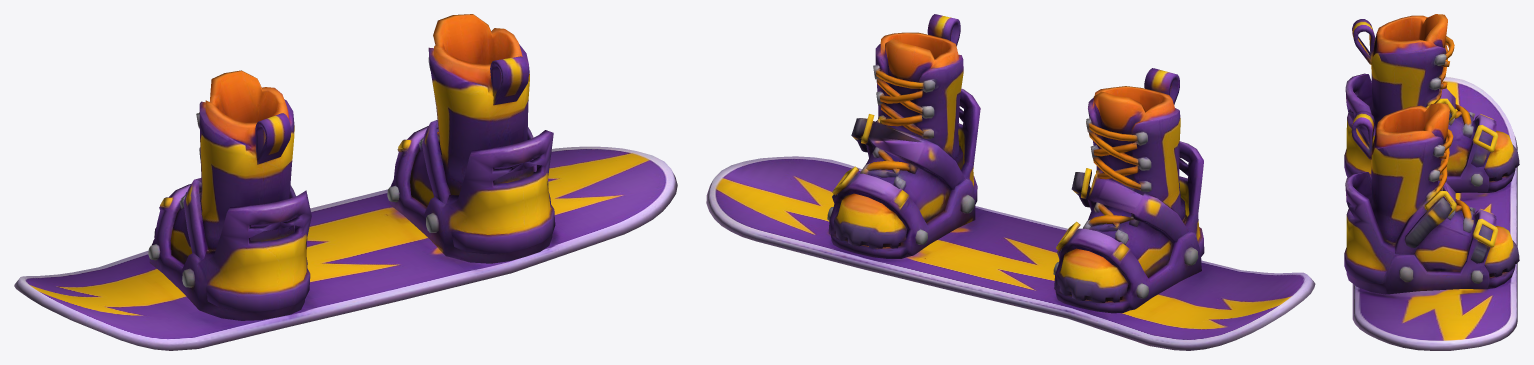
File: snowboard-boots.glb
3 views of the same model, side by side, from view 1: azimuth 30°, elevation 25°; view 2: azimuth 150°, elevation 25°; view 3: azimuth 270°, elevation 25° (orthographic). The views are drawn at different scales.
Parts seen in each view (by area): view 1: tripo_node_6c6eb933-b70a-4e74-a647-f0804266ec7a; view 2: tripo_node_6c6eb933-b70a-4e74-a647-f0804266ec7a; view 3: tripo_node_6c6eb933-b70a-4e74-a647-f0804266ec7a.
Part boxes in pixels (box(x1,y1,x2,y2)): tripo_node_6c6eb933-b70a-4e74-a647-f0804266ec7a: box(14, 14, 677, 350); tripo_node_6c6eb933-b70a-4e74-a647-f0804266ec7a: box(706, 14, 1315, 350); tripo_node_6c6eb933-b70a-4e74-a647-f0804266ec7a: box(1344, 14, 1519, 350).
Size of the model in its own units: 0.9995 by 0.3325 by 0.2935.
1 material, 1 textured.
